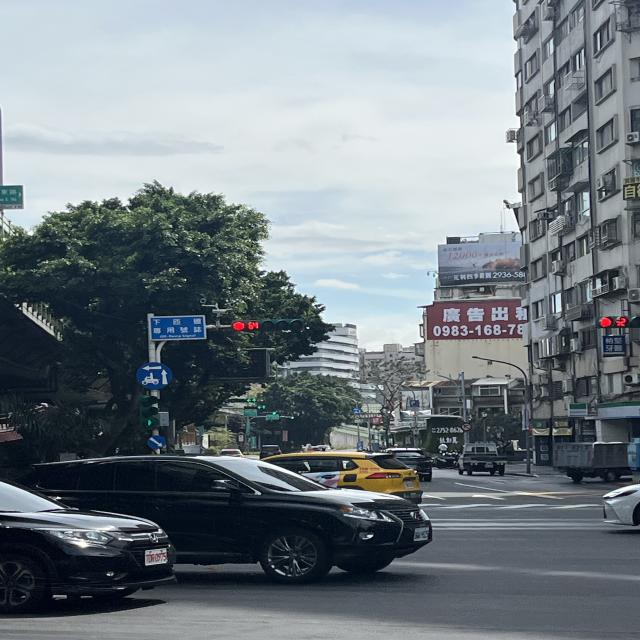red light: (232, 317, 302, 333), (593, 313, 639, 332)
